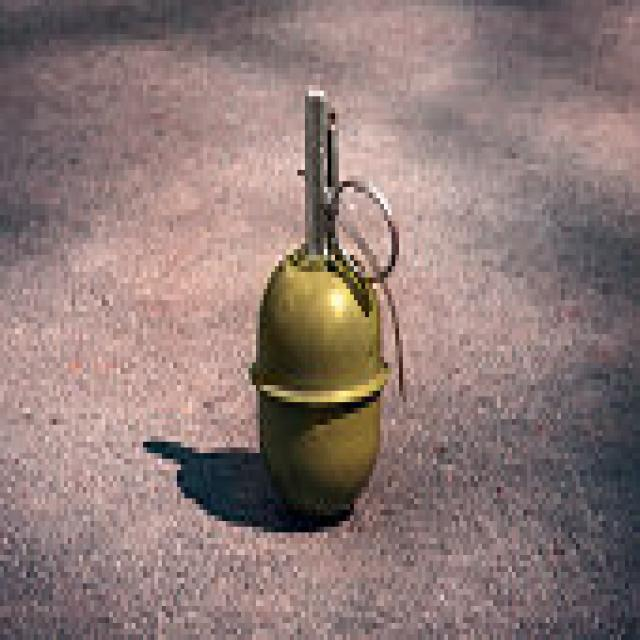grenade: (241, 78, 418, 532)
